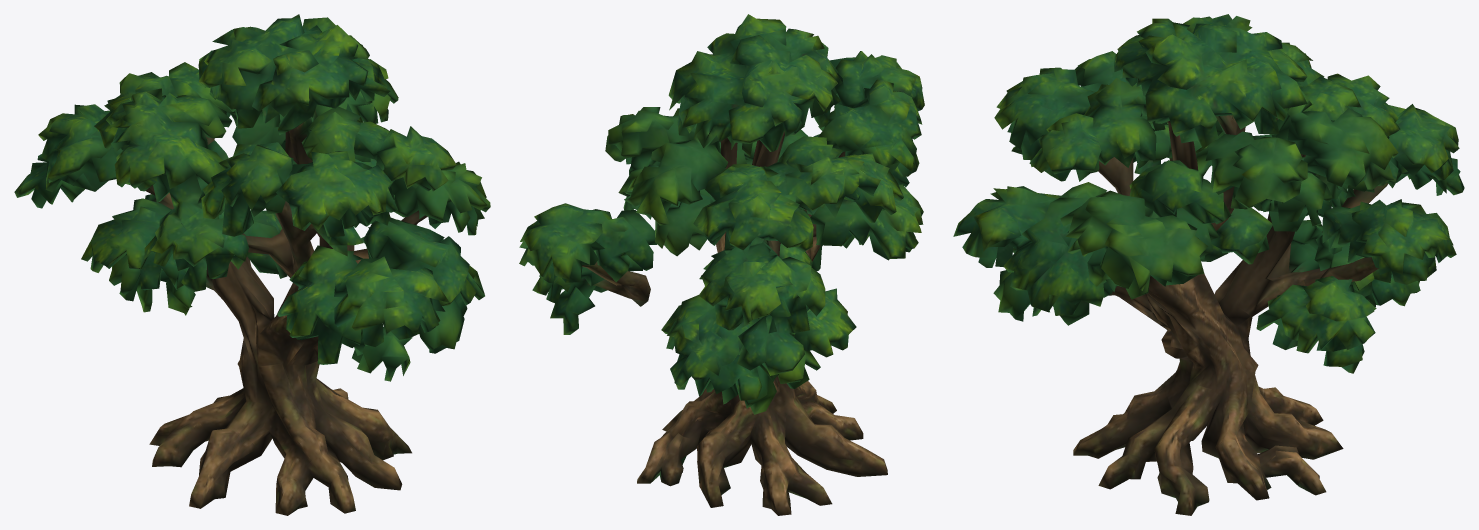
Rendered from SM_Env_Tree.fbx.
The picture shows the model from 3 angles, left to right: view 1: azimuth 30°, elevation 25°; view 2: azimuth 150°, elevation 25°; view 3: azimuth 270°, elevation 25°; orthographic projection. The views are drawn at different scales.
Visible parts, largest first — view 1: SM_Env_Tree; view 2: SM_Env_Tree; view 3: SM_Env_Tree.
Boxes of the visible parts, left/top/right/bottom form: SM_Env_Tree: left=14, top=14, right=490, bottom=515; SM_Env_Tree: left=519, top=14, right=924, bottom=515; SM_Env_Tree: left=953, top=14, right=1464, bottom=515.
Size of the model in its own units: 145 by 199 by 190.
1 material, 1 textured.
